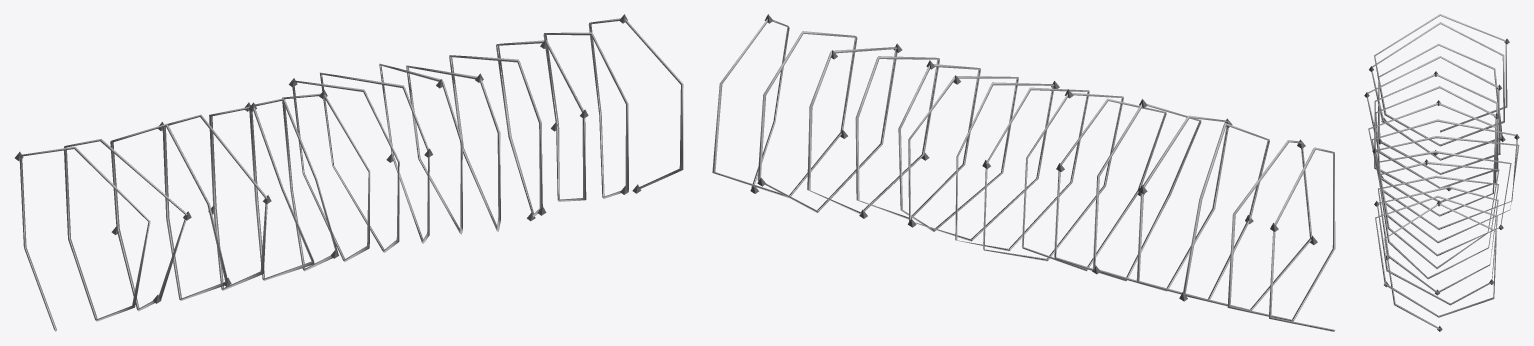
The model's file is Iron wire.FBX.
3 renders of one model, left to right at view 1: azimuth 30°, elevation 25°; view 2: azimuth 150°, elevation 25°; view 3: azimuth 270°, elevation 25°, orthographic. The views are drawn at different scales.
Visible parts, largest first — view 1: iron wire; view 2: iron wire; view 3: iron wire.
Part boxes in pixels (x1=…): iron wire: x1=15, y1=14, x2=683, y2=331; iron wire: x1=712, y1=14, x2=1335, y2=331; iron wire: x1=1364, y1=14, x2=1519, y2=331.
Bounding box in the file's own units: 212 × 63.04 × 68.98.
